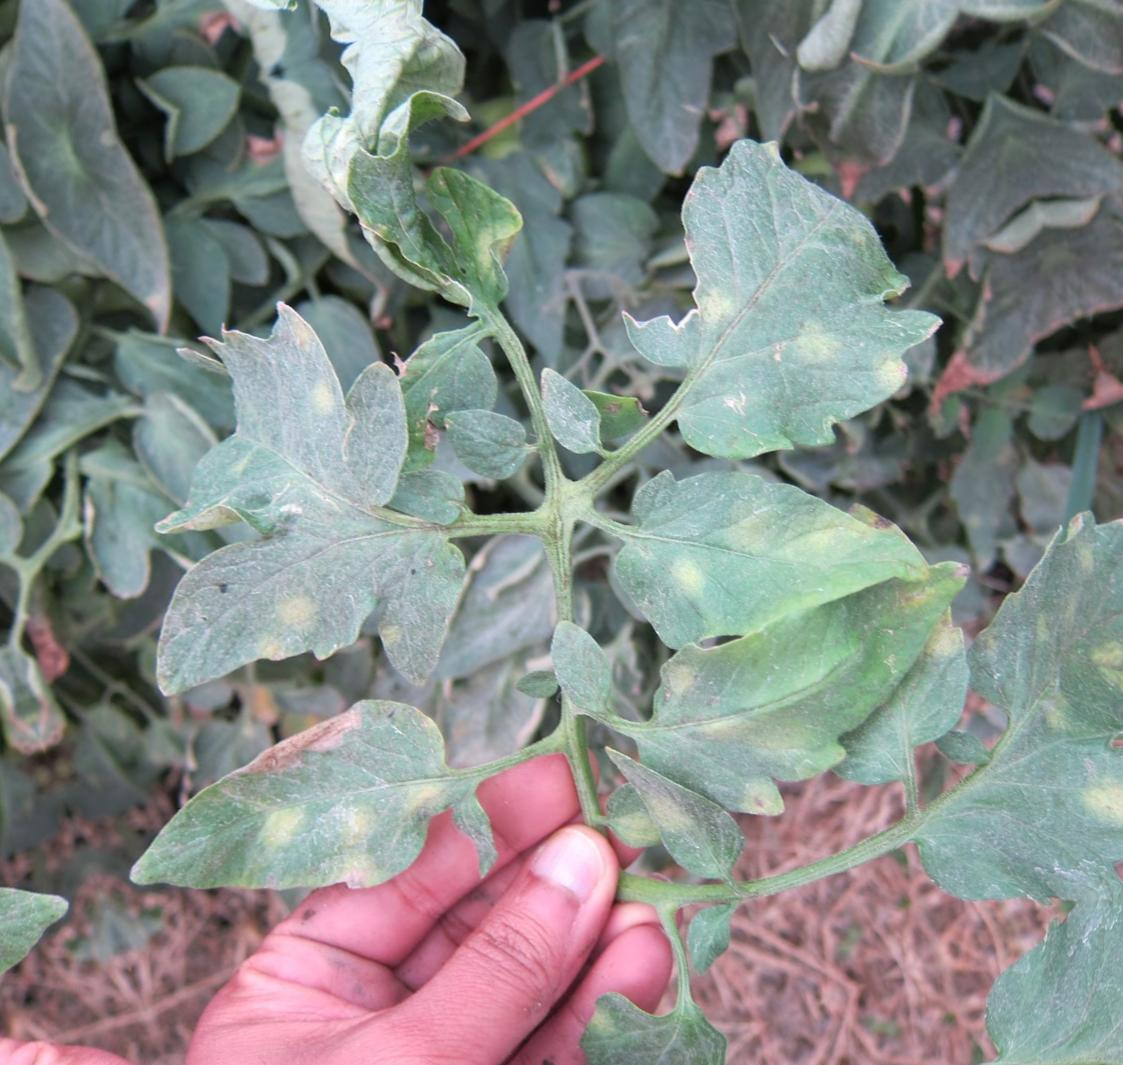Tomato mold leaf: (30, 257, 504, 762), (565, 96, 974, 505), (588, 555, 1054, 898), (67, 634, 505, 994), (592, 386, 983, 764), (268, 3, 562, 351), (846, 671, 1123, 970), (917, 468, 1123, 790), (511, 943, 746, 1065)
